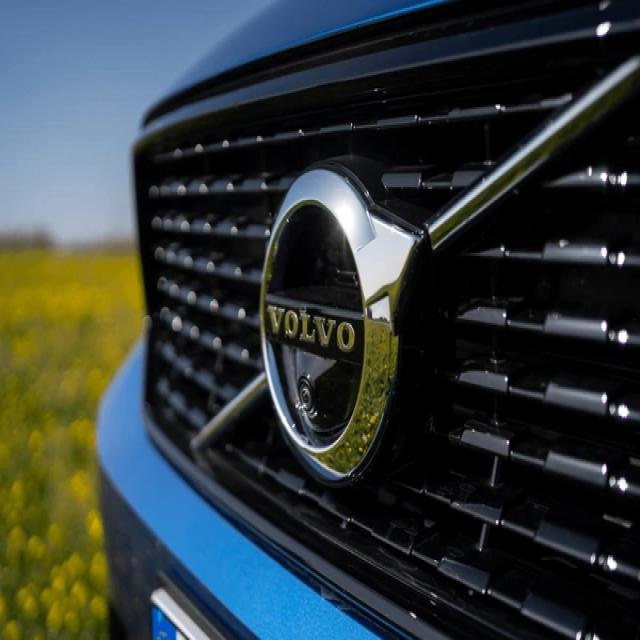volvo: (254, 162, 421, 488)
